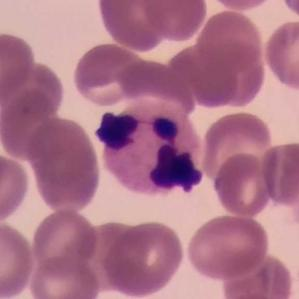Neutrophil: (94, 105, 205, 196)
RBC: (26, 113, 104, 214), (178, 37, 267, 110), (189, 210, 277, 280), (198, 109, 276, 187), (111, 58, 196, 126), (70, 41, 149, 108), (106, 224, 181, 293), (0, 87, 66, 162), (193, 8, 266, 74), (29, 207, 100, 274), (211, 150, 275, 219), (0, 57, 66, 122), (82, 221, 146, 287), (94, 0, 174, 52), (221, 252, 299, 299), (26, 253, 102, 299), (140, 0, 209, 43), (0, 219, 37, 299), (261, 17, 299, 92), (258, 139, 299, 208), (0, 29, 37, 104), (0, 152, 32, 225), (204, 0, 279, 13), (277, 0, 299, 22)
